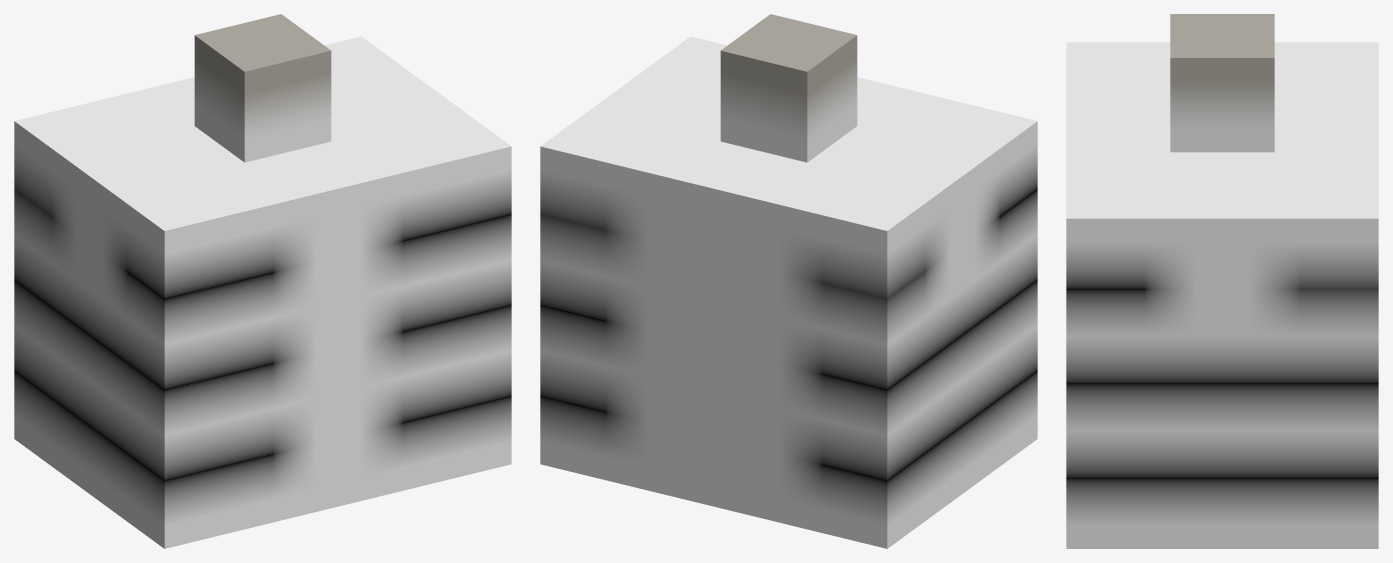
Rendered from skeleton_torso.fbx.
The picture shows the model from 3 angles, left to right: view 1: azimuth 30°, elevation 25°; view 2: azimuth 150°, elevation 25°; view 3: azimuth 270°, elevation 25°; orthographic projection. The views are drawn at different scales.
Parts seen in each view (by area): view 1: skeleton_torso; view 2: skeleton_torso; view 3: skeleton_torso.
Boxes of the visible parts, x1=… form: skeleton_torso: x1=14, y1=14, x2=511, y2=548; skeleton_torso: x1=540, y1=14, x2=1037, y2=548; skeleton_torso: x1=1066, y1=14, x2=1378, y2=548.
Bounding box in the file's own units: 8 × 9 × 6.
Materials: 1 (1 with a texture image).
